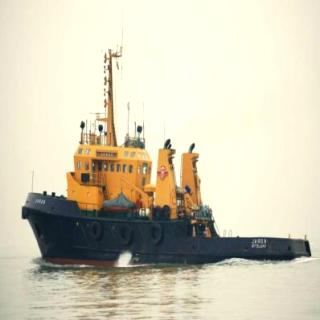Tug Boat: (22, 121, 320, 266)
